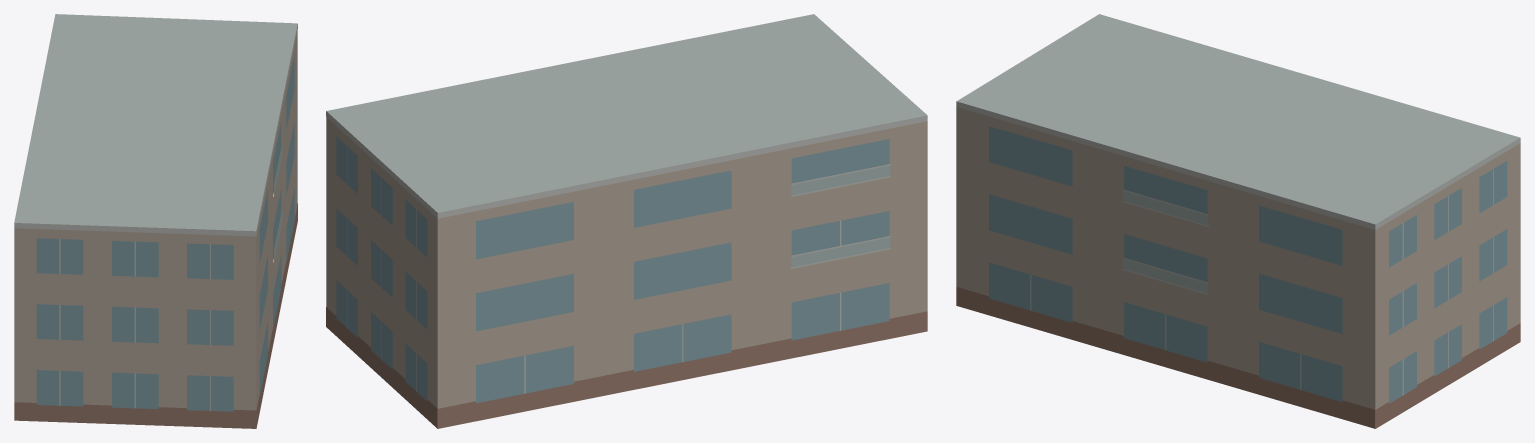
Rendered from survey-upis-32531220.glb.
3 views of the same model, side by side, from view 1: azimuth 30°, elevation 25°; view 2: azimuth 150°, elevation 25°; view 3: azimuth 270°, elevation 25° (orthographic). The views are drawn at different scales.
Visible parts, largest first — view 1: survey-upis-32531220.tmp; view 2: survey-upis-32531220.tmp; view 3: survey-upis-32531220.tmp.
Part boxes in pixels (box(x1,y1,x2,y2)): survey-upis-32531220.tmp: box(14, 14, 297, 428); survey-upis-32531220.tmp: box(326, 14, 927, 428); survey-upis-32531220.tmp: box(956, 14, 1520, 428).
Bounding box in the file's own units: 20.22 × 9.15 × 22.89.
